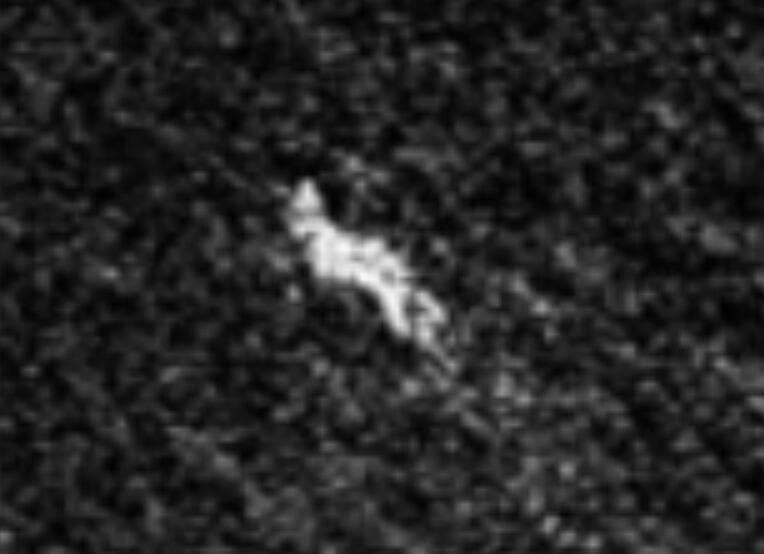man: (261, 172, 452, 346)
